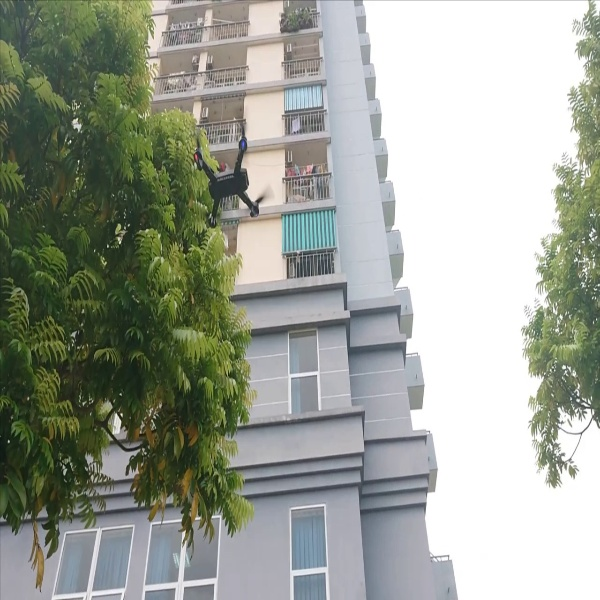drone: (180, 122, 282, 242)
